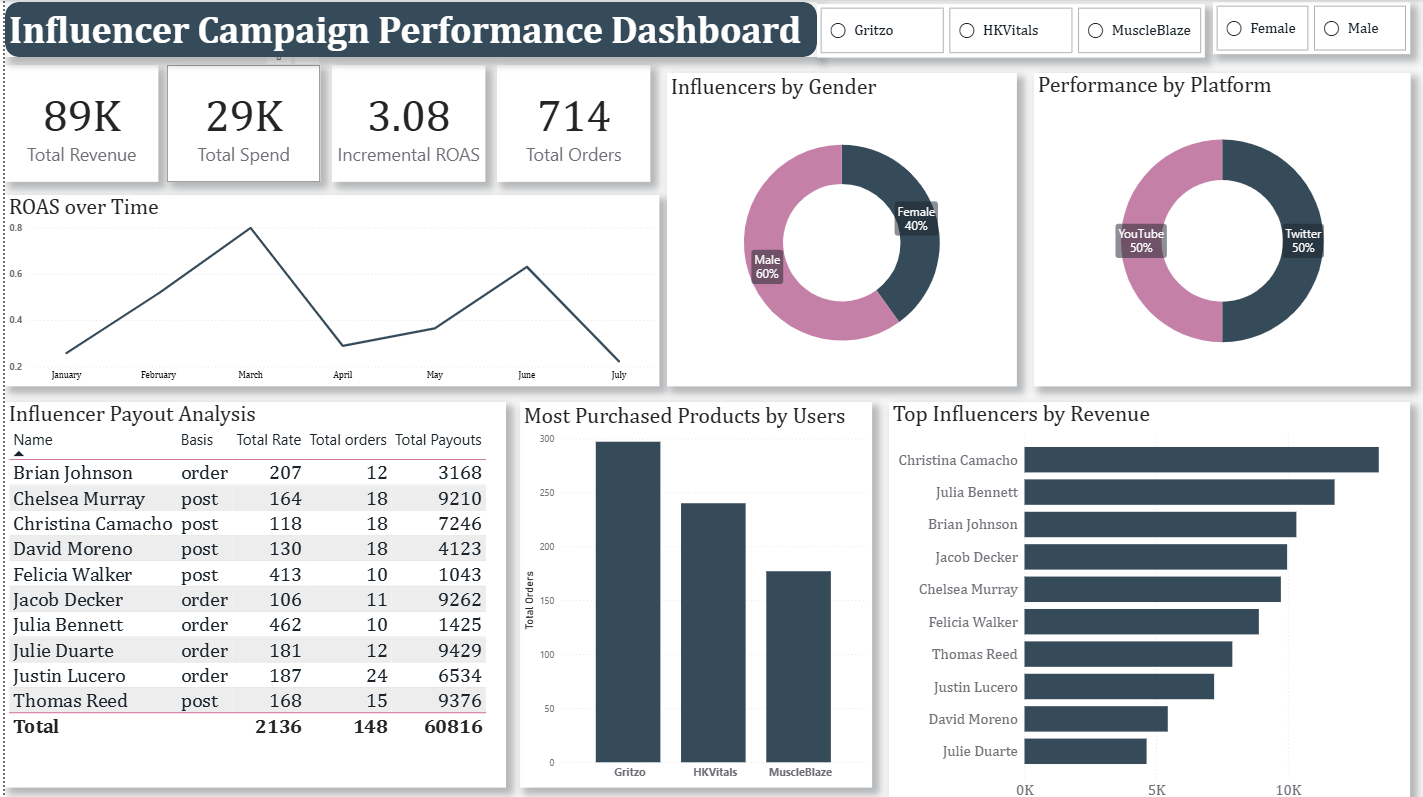

Layout of this report page (visuals, bound fields, positions):
{"tool":"powerbi","page":{"name":"Page 1","canvas":[1920,1080],"ordinal":0},"visuals":[{"type":"clusteredBarChart","title":"Top Influencers by Revenue","fields":{"Y":["Calculations.Total Revenue"],"Category":["influencers.name"]},"box":[1187.8,540.3,700.2,540.3],"z":0},{"type":"lineChart","title":"ROAS over Time","fields":{"Category":["tracking_data.date.Variation.Date Hierarchy.Month"],"Y":["Calculations.ROAS"]},"box":[0,262.2,879.3,257.4],"z":1000},{"type":"columnChart","title":"Most Purchased Products by Users","fields":{"Category":["tracking_data.product"],"Y":["Calculations.Total Orders"]},"box":[692.2,540.3,473.2,518],"z":2000},{"type":"donutChart","title":"Performance by Platform","fields":{"Category":["posts.platform"],"Y":["Calculations.Total Revenue"]},"box":[1382.3,98.6,505.7,421],"z":3000},{"type":"tableEx","title":"Influencer Payout Analysis","fields":{"Values":["influencers.name","payouts.basis","payouts.rate","payouts.orders","payouts.total_payout"]},"box":[0,540.3,673,518],"z":4000},{"type":"card","fields":{"Values":["Calculations.Total Revenue"]},"box":[0,87.9,206.2,156.7],"z":5000},{"type":"card","fields":{"Values":["Calculations.Total Spend"]},"box":[217.4,87.9,206.2,156.7],"z":6000},{"type":"card","fields":{"Values":["Calculations.Incremental ROAS"]},"box":[439.6,87.9,206.2,156.7],"z":7000},{"type":"card","fields":{"Values":["Calculations.Total Orders"]},"box":[660.2,87.9,206.2,156.7],"z":8000},{"type":"shape","box":[0,2.7,1090.7,73.9],"z":9000},{"type":"donutChart","title":"Influencers by Gender","fields":{"Category":["influencers.gender"],"Y":["influencers.influencer_id"]},"box":[889.1,98.6,469.6,421],"z":10000},{"type":"advancedSlicerVisual","fields":{"Values":["tracking_data.product"]},"box":[1090.3,4.8,521.2,71.9],"z":11000},{"type":"advancedSlicerVisual","fields":{"Values":["influencers.gender"]},"box":[1622.6,3.2,265.4,70.3],"z":12000}]}

Visuals, with their boxes in screenshot pixels (x1, y1, x2, y2), scaled from the page's 1920x1080 canvas onto the 1423x797 screenshot:
"Top Influencers by Revenue" clusteredBarChart: 880, 399, 1399, 796
"ROAS over Time" lineChart: 0, 193, 652, 383
"Most Purchased Products by Users" columnChart: 513, 399, 864, 781
"Performance by Platform" donutChart: 1024, 73, 1399, 383
"Influencer Payout Analysis" tableEx: 0, 399, 499, 781
card - Calculations.Total Revenue: 0, 65, 153, 181
card - Calculations.Total Spend: 161, 65, 314, 181
card - Calculations.Incremental ROAS: 326, 65, 479, 181
card - Calculations.Total Orders: 489, 65, 642, 181
shape: 0, 2, 808, 57
"Influencers by Gender" donutChart: 659, 73, 1007, 383
advancedSlicerVisual - tracking_data.product: 808, 4, 1194, 57
advancedSlicerVisual - influencers.gender: 1203, 2, 1399, 54
